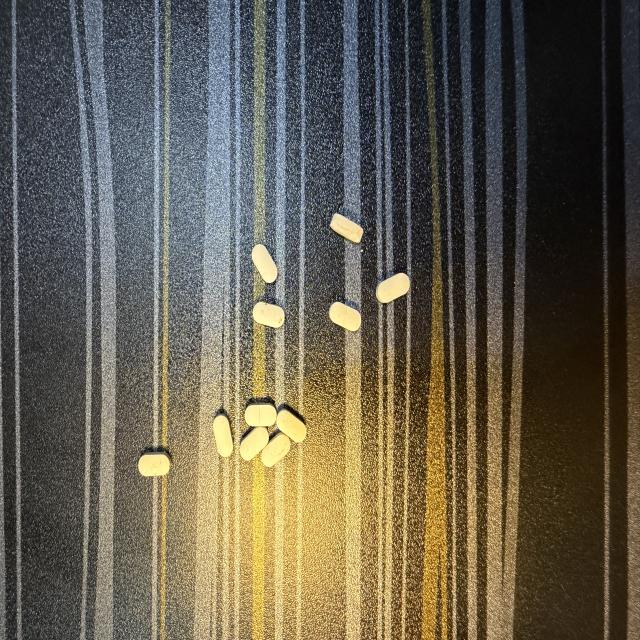pill: (261, 433, 290, 467), (377, 273, 409, 303), (330, 214, 363, 243), (277, 409, 306, 442), (252, 245, 277, 283), (240, 427, 268, 460), (330, 302, 361, 331), (253, 302, 284, 328), (214, 414, 232, 457), (139, 452, 171, 476), (245, 402, 276, 426)
